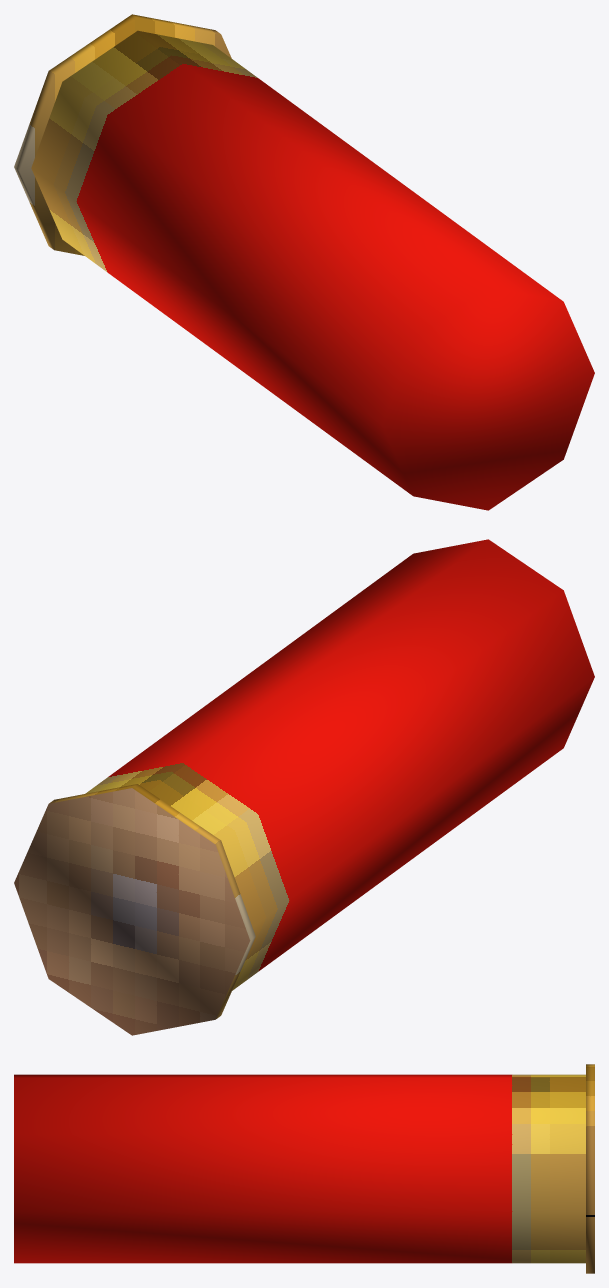
The model's file is 12-gauge.glb.
The picture shows the model from 3 angles, top to bottom: view 1: azimuth 30°, elevation 25°; view 2: azimuth 150°, elevation 25°; view 3: azimuth 270°, elevation 25°; orthographic projection. The views are drawn at different scales.
Visible parts, largest first — view 1: Shell Template; view 2: Shell Template; view 3: Shell Template.
Part boxes in pixels (x1,y1,x2,y2): Shell Template: (14,14,594,510); Shell Template: (14,539,594,1035); Shell Template: (14,1064,594,1273).
Size of the model in its own units: 0.0284 by 0.0284 by 0.0741.
1 material, 1 textured.
